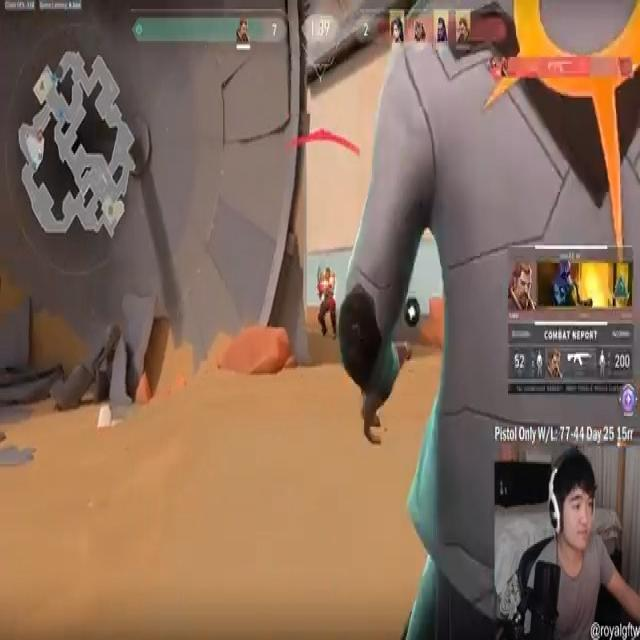enemy: (317, 266, 338, 338)
orb: (403, 297, 421, 330)
